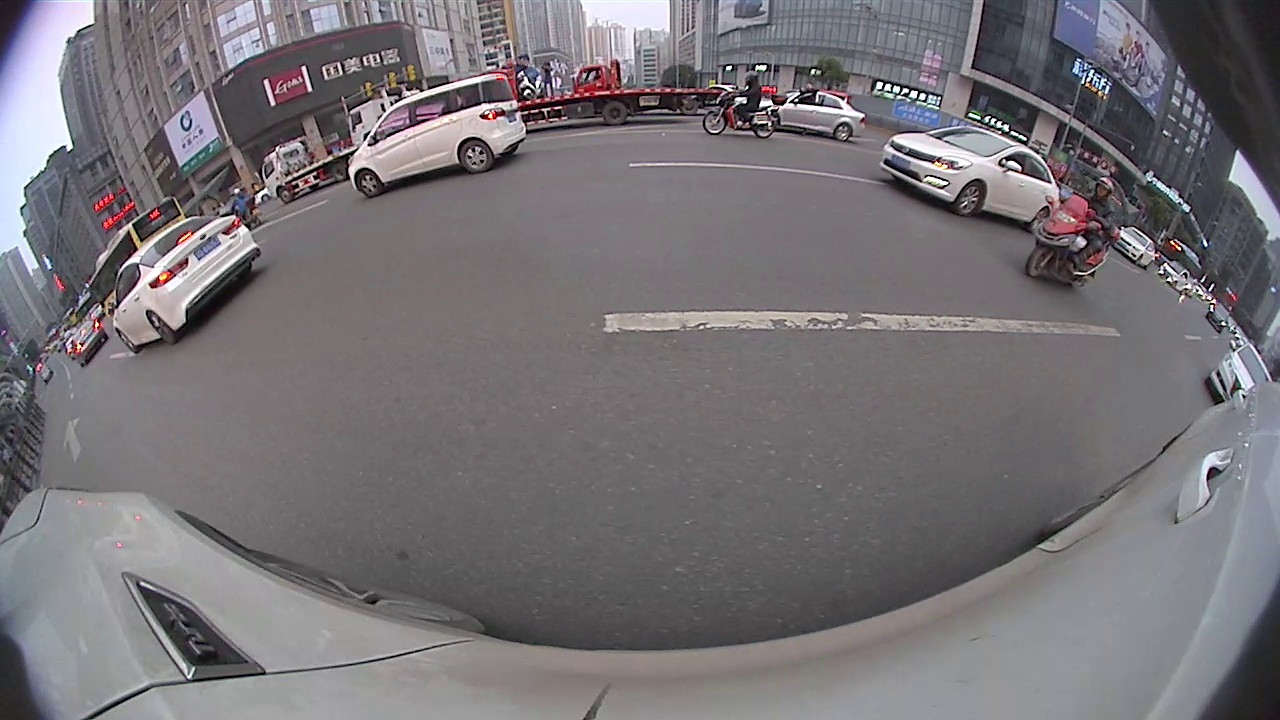car: (346, 70, 532, 201), (110, 212, 261, 354), (880, 126, 1066, 236), (763, 89, 872, 142), (1206, 344, 1274, 419)
front: (1025, 243, 1056, 280), (955, 179, 985, 217), (355, 169, 384, 198), (701, 110, 729, 137), (115, 330, 140, 355), (277, 187, 294, 204)
rear: (144, 307, 179, 345), (459, 138, 494, 174), (602, 101, 629, 126), (753, 120, 779, 140), (835, 122, 854, 143)
rider: (1024, 180, 1124, 289), (713, 74, 777, 142)
truck: (563, 60, 786, 129), (256, 140, 366, 203)
